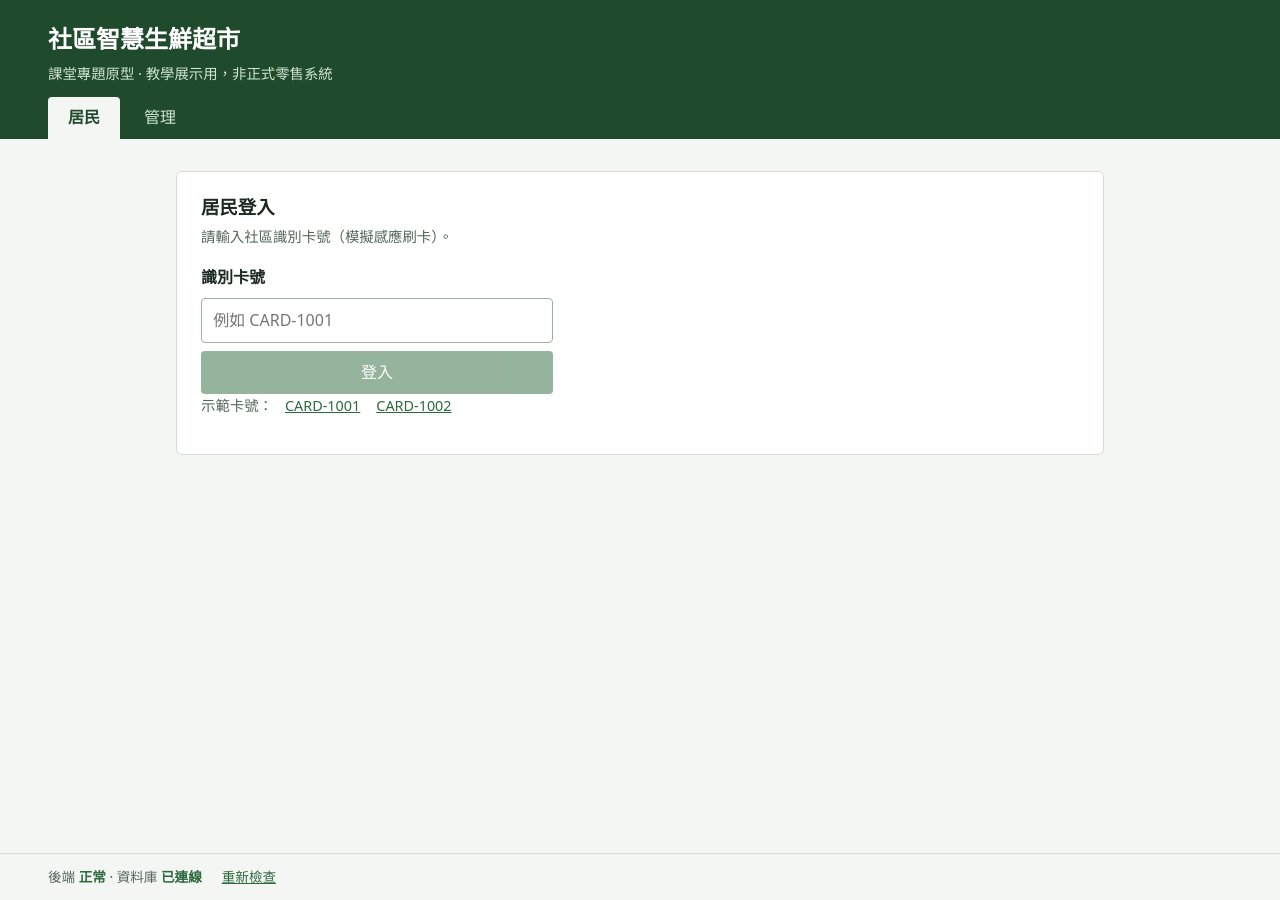
Test: shows a friendly message when the server fails
Type "CARD-1001" into the field labelled "識別卡號" at (377, 321), box 201,298 -> 553,343
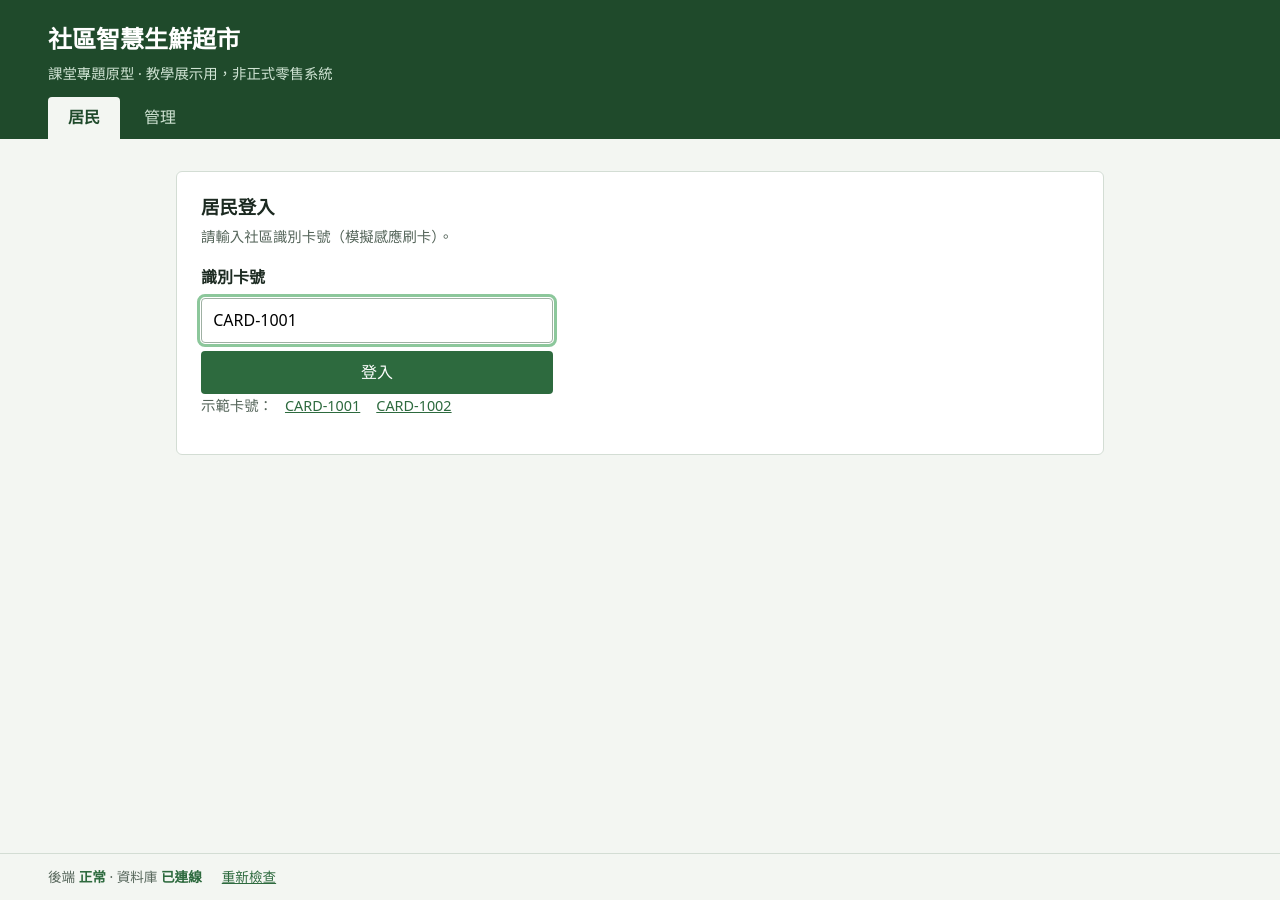
Click the button "登入" at (377, 373), box 201,351 -> 553,394
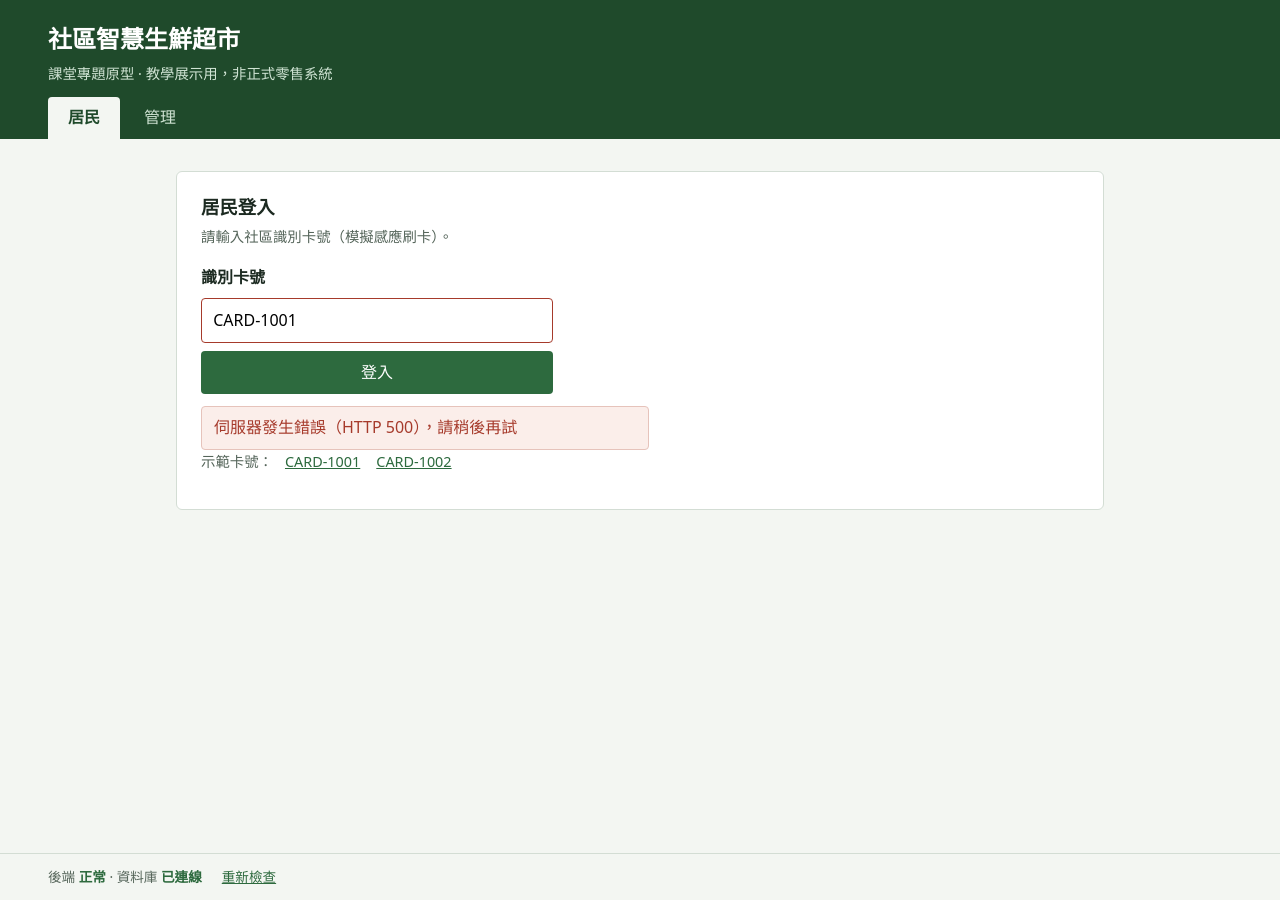
Expected: the message shows "伺服器發生錯誤", 214,416 -> 517,438
